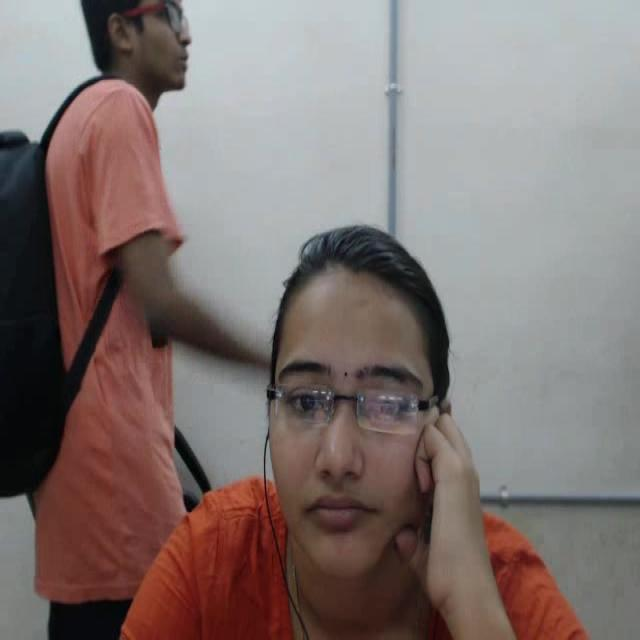Bored: (241, 214, 468, 612)
